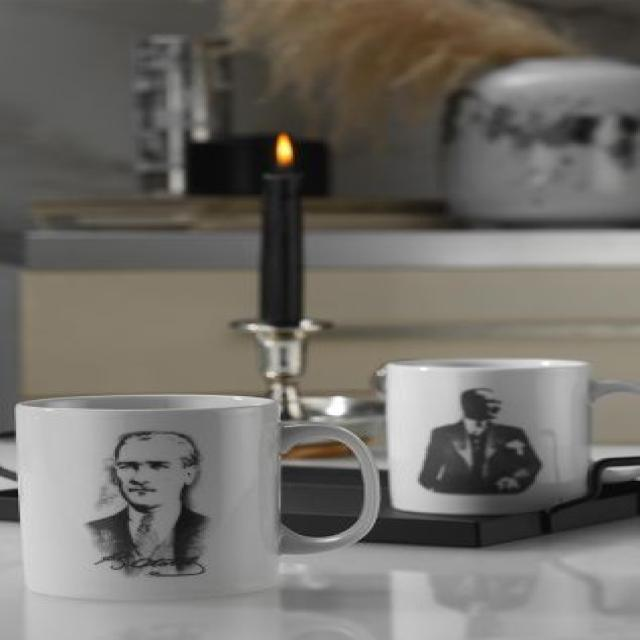Coffee Mug: (12, 392, 380, 604), (383, 355, 640, 516)
